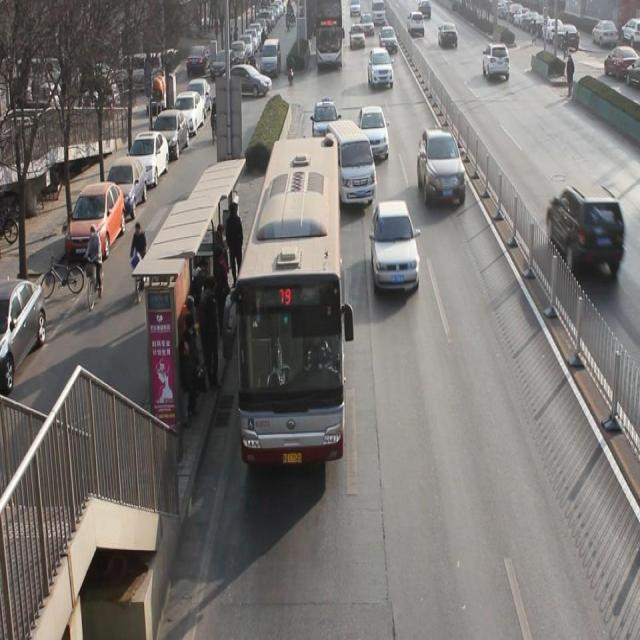car: (550, 184, 625, 283), (372, 204, 420, 296), (419, 129, 469, 208), (359, 104, 390, 165), (313, 98, 340, 146), (368, 49, 395, 91), (484, 46, 512, 82), (378, 27, 398, 56), (438, 23, 459, 50), (408, 13, 426, 43), (350, 24, 364, 51)
truck: (327, 120, 378, 207)
van: (236, 138, 345, 468), (317, 1, 343, 68)
